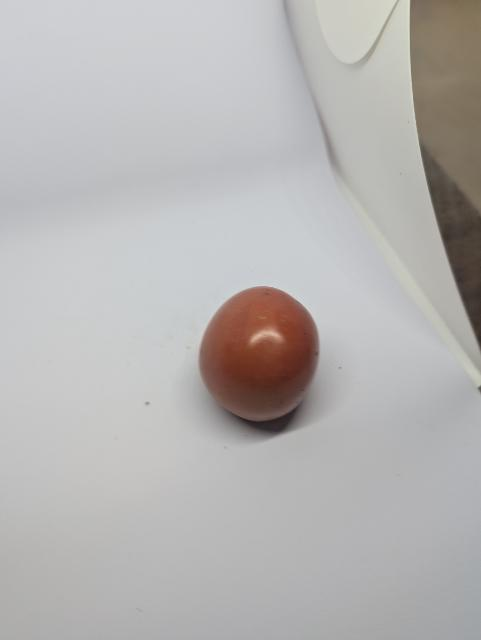red: (190, 276, 327, 436)
